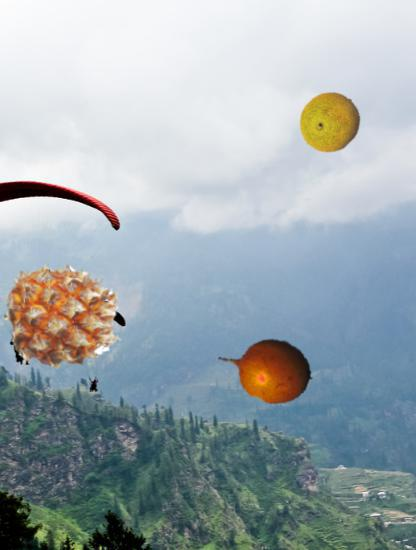Cantaloupe: (298, 91, 361, 154)
Granadilla: (218, 321, 313, 416)
Pineapple: (4, 257, 122, 375)
